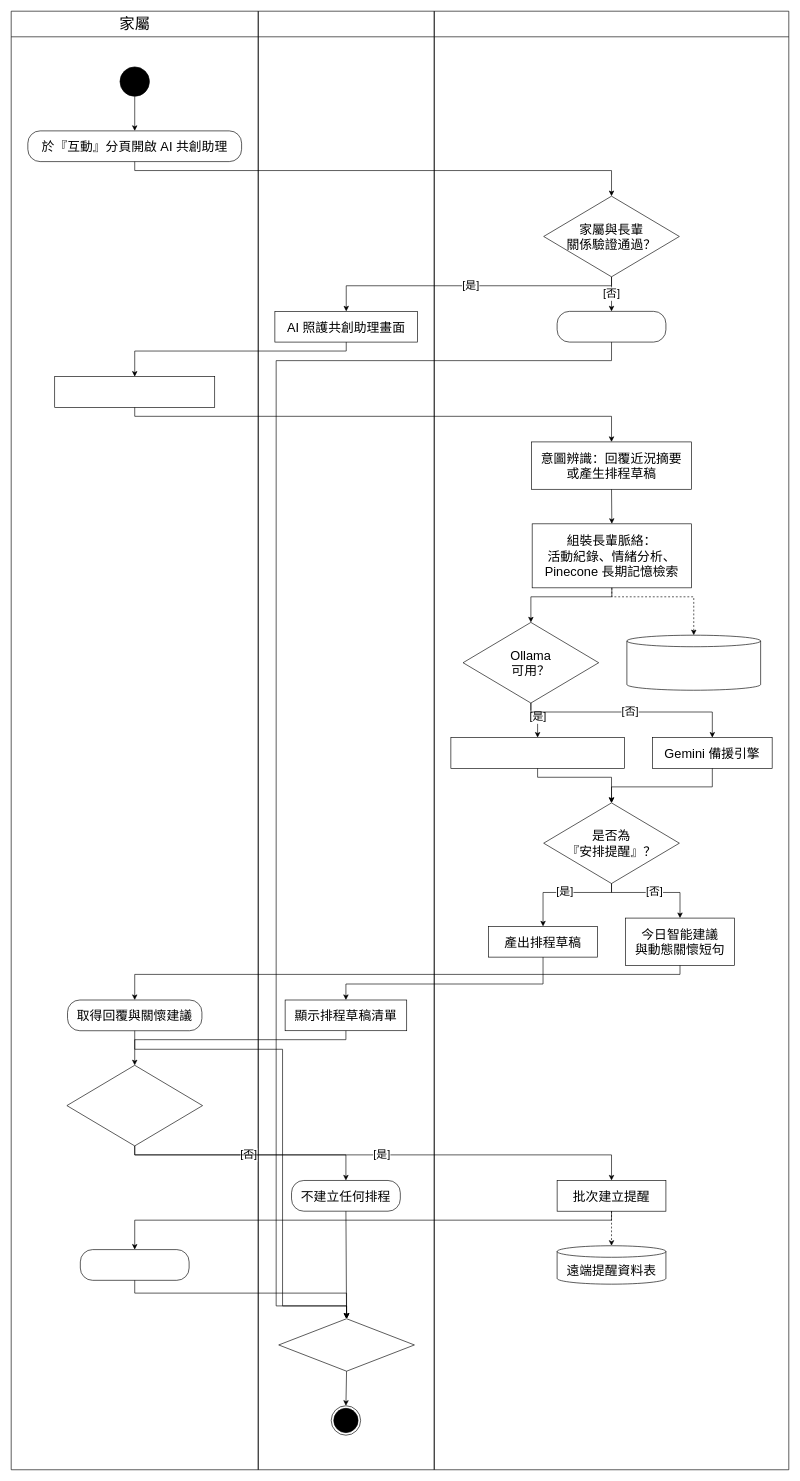
This 800x1481 diagram has some shape labels left out. Here are the shapes that lost their labels. From the top down, the box of each, then its label:
(556, 311, 666, 342): 回傳無權限
(54, 376, 215, 407): 以自然語言提問或下指令
(626, 635, 761, 690): Pinecone 長期記憶 （向量資料庫）
(258, 11, 434, 1470): 家屬端
(450, 737, 624, 768): Ollama 本地主要 AI 引擎
(434, 11, 789, 1470): uban-api 後端
(66, 1065, 203, 1146): 草稿是否 逐筆確認？
(80, 1249, 189, 1280): 排程批次建立
